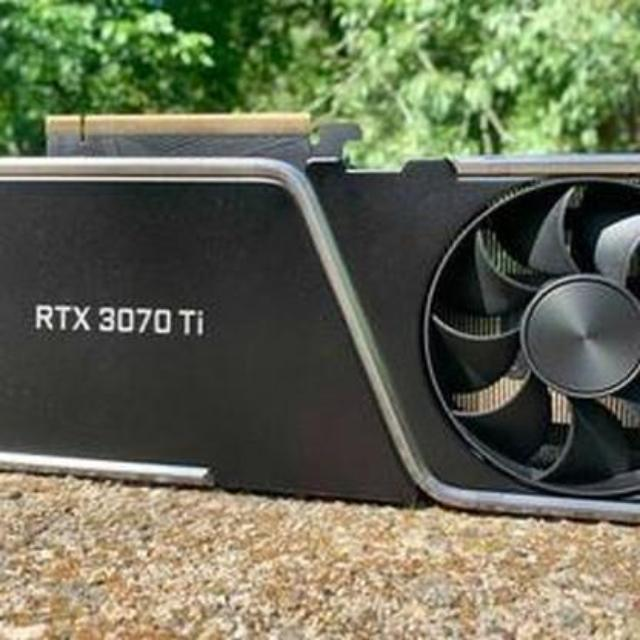GPU: (0, 113, 640, 518)
